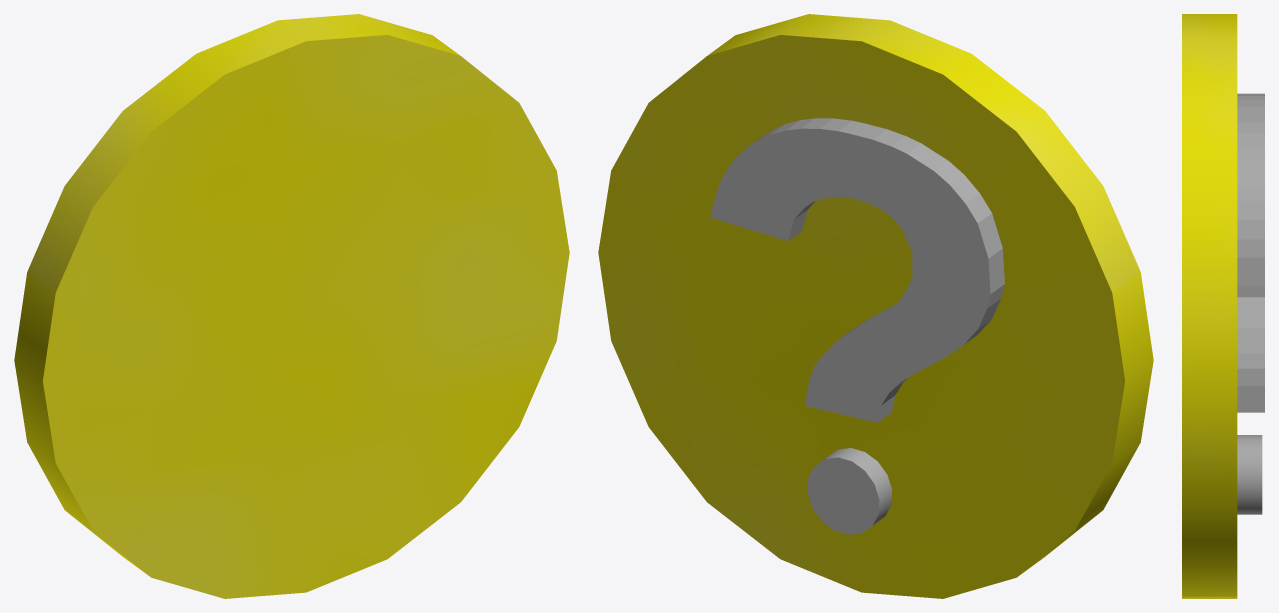
3 renders of one model, left to right at view 1: azimuth 30°, elevation 25°; view 2: azimuth 150°, elevation 25°; view 3: azimuth 270°, elevation 25°, orthographic. The views are drawn at different scales.
Parts seen in each view (by area): view 1: question; view 2: question; view 3: question.
Boxes of the visible parts, x1,y1,x2,y2 form: question: [14, 14, 569, 598]; question: [598, 14, 1153, 598]; question: [1182, 14, 1264, 598].
Bounding box in the file's own units: 1.35 × 1.35 × 0.1905.
1 material, 1 textured.
